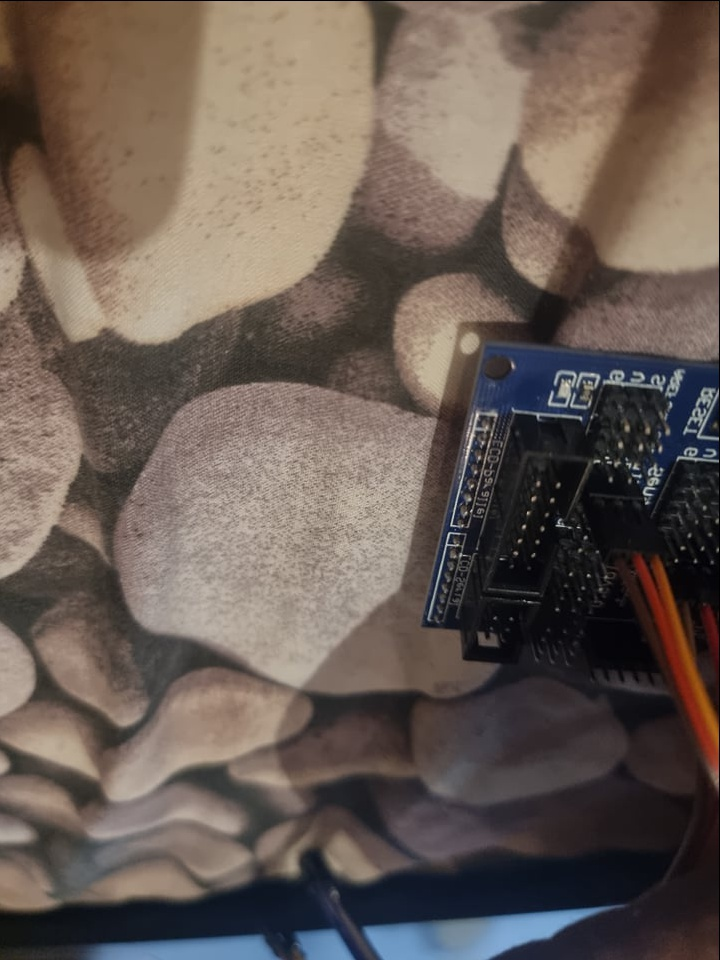5V EXPANSION: (425, 338, 720, 685)
